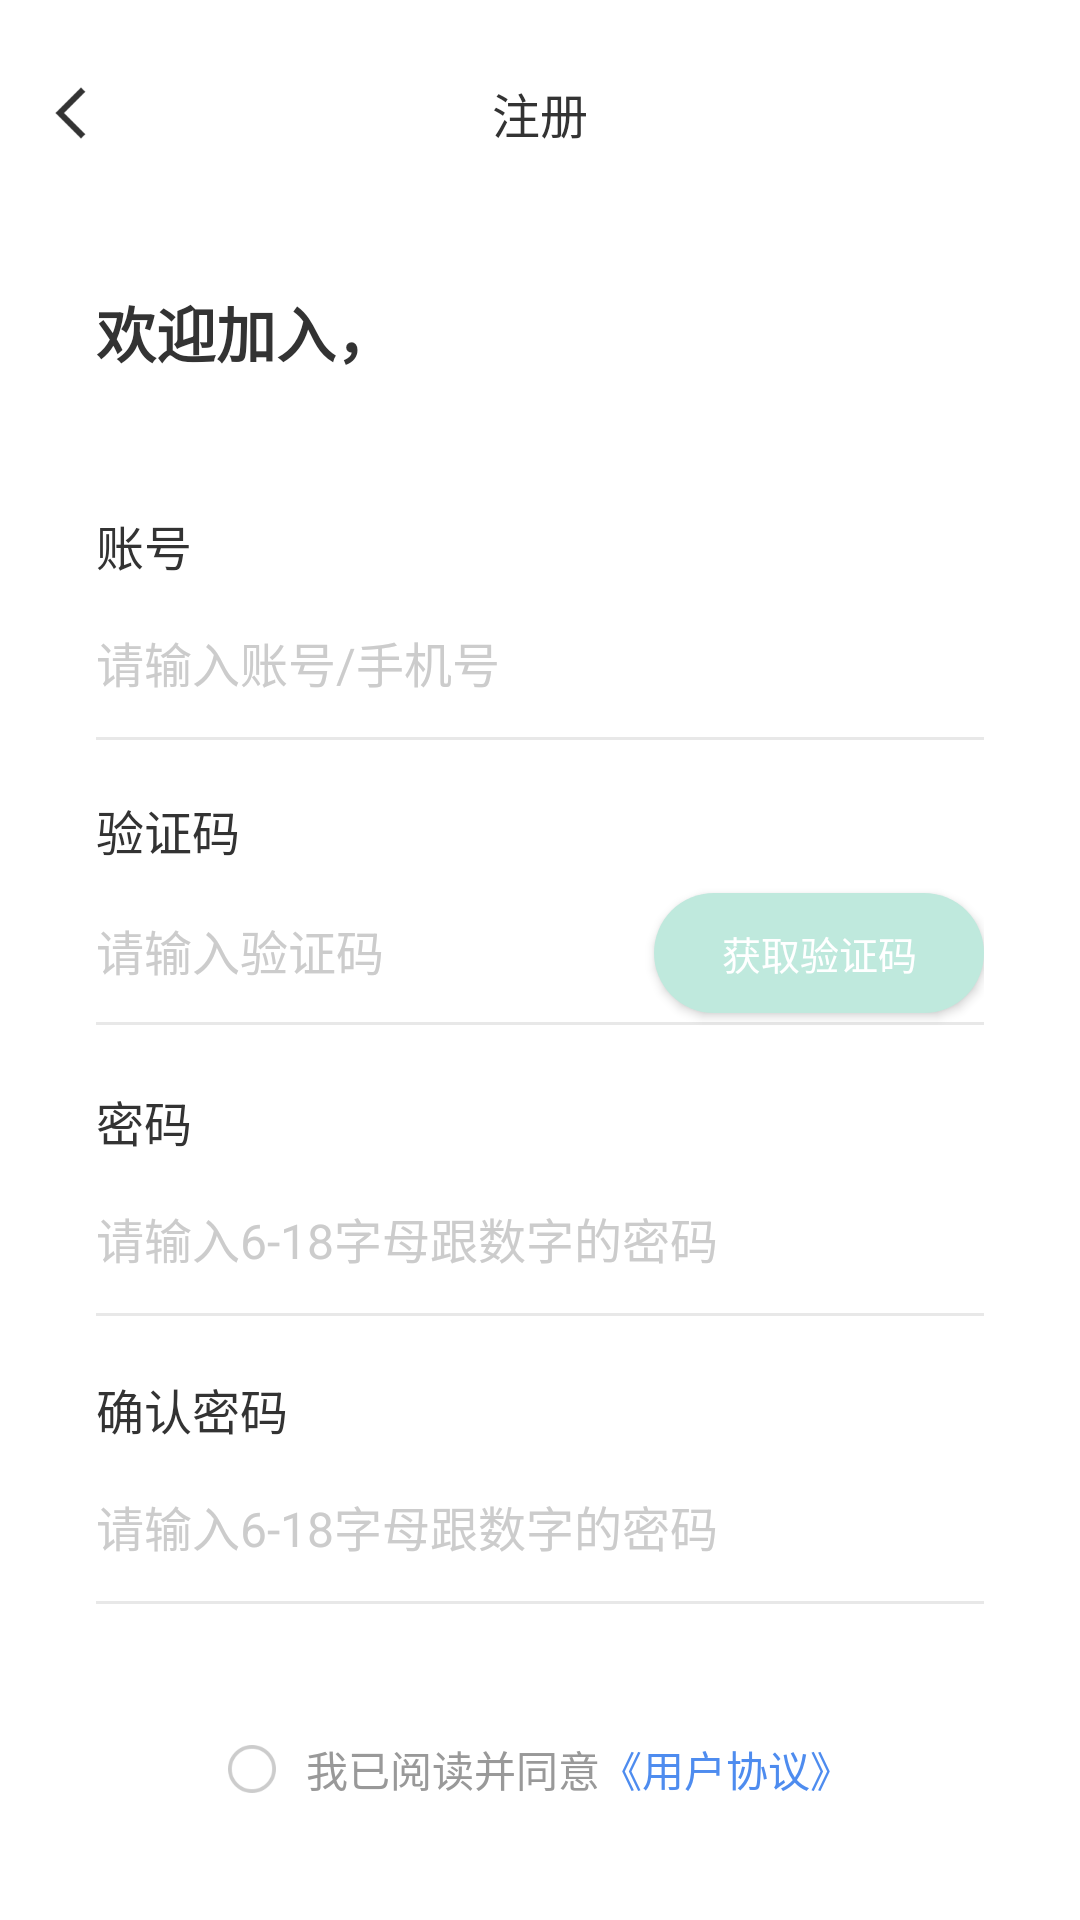

Named icons in this screenshot (1080 × 1920) and their bounding boxes, Rect(x1, y1, x2, y2):
return: Rect(55, 87, 86, 139)
